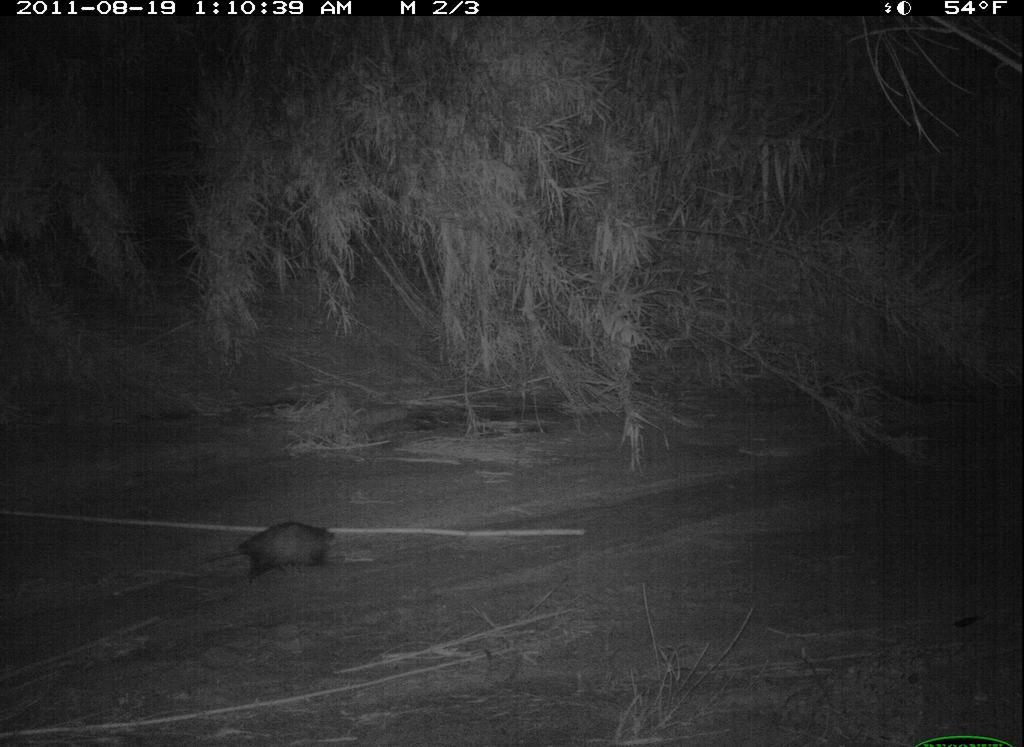opossum: (189, 515, 355, 592)
